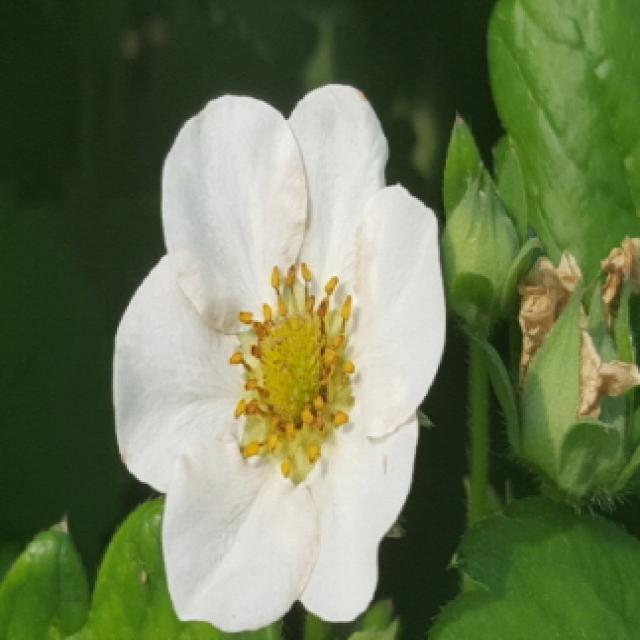Blossom Blight: (220, 254, 358, 487)
